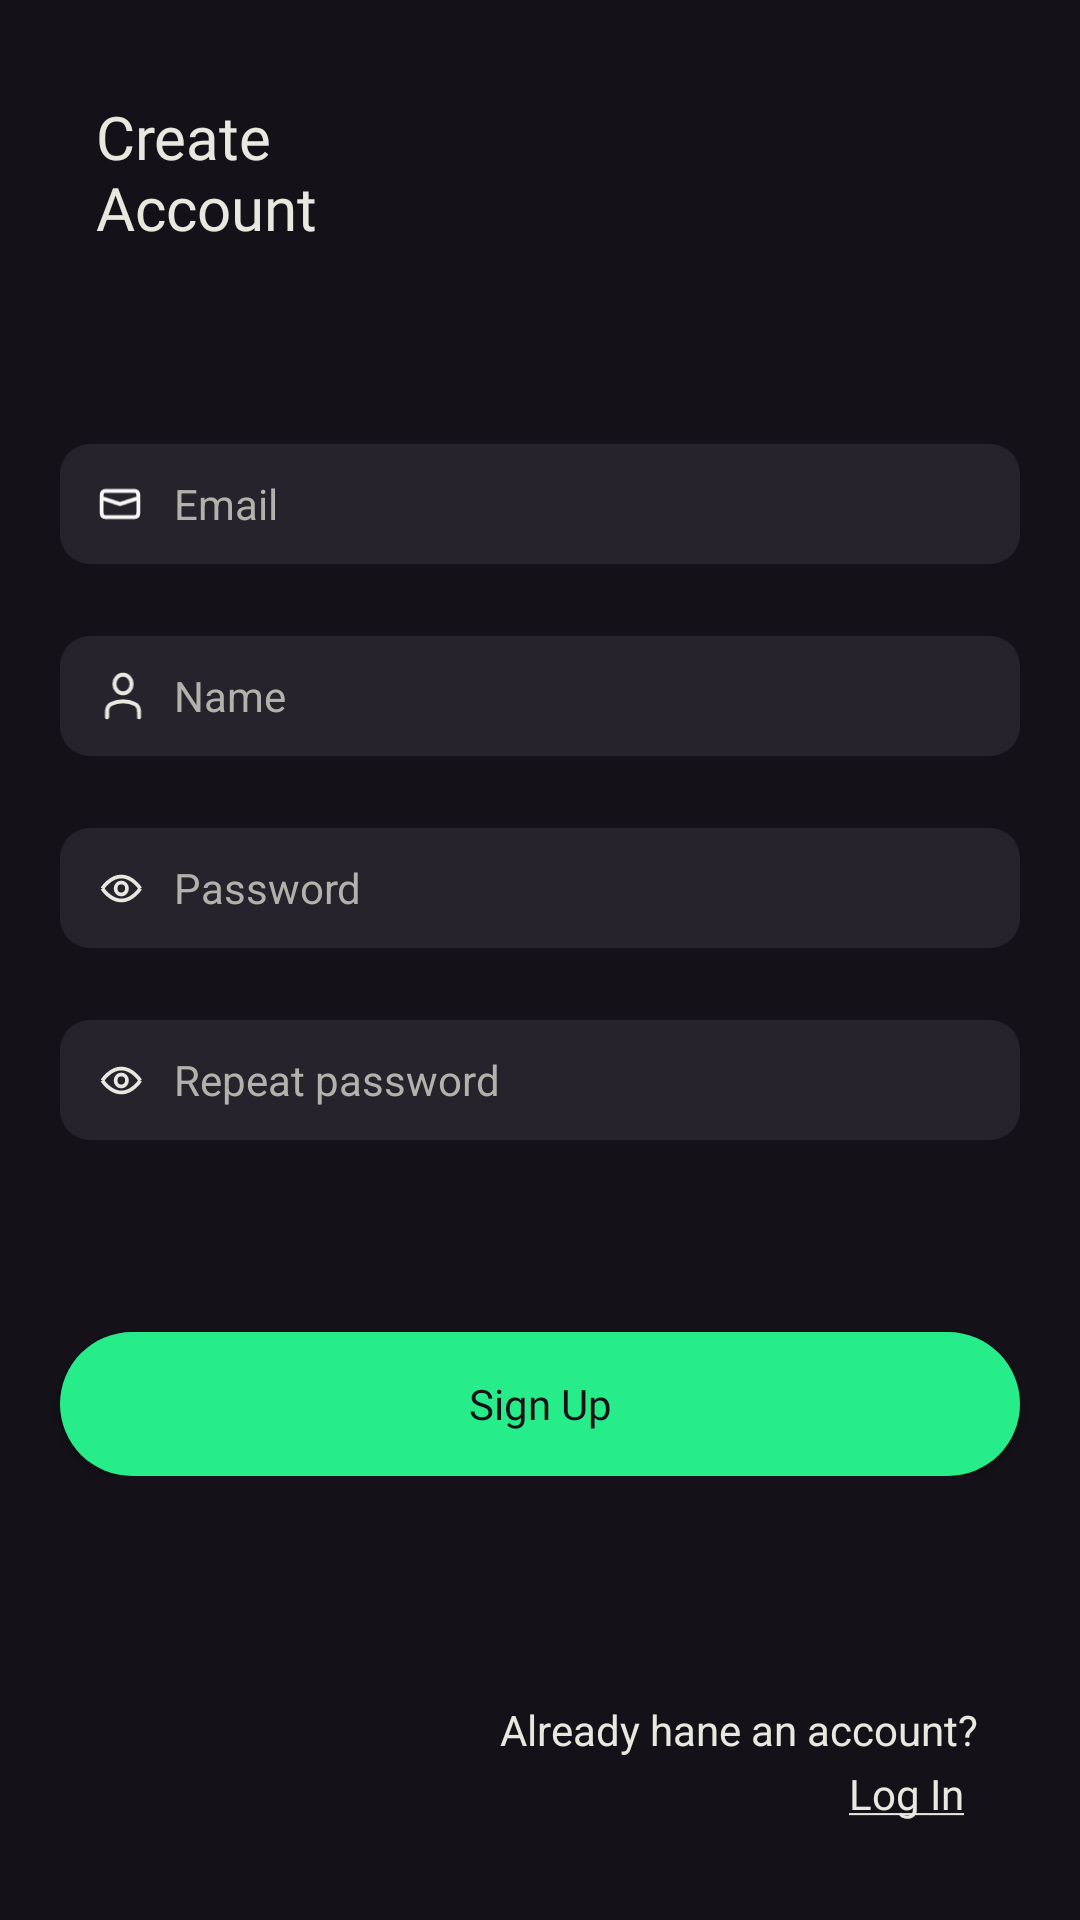

Where icons sit on this 1080×1920 app screen, as Rect(x1, y1, x2, y2):
eye: Rect(101, 874, 142, 903), Rect(101, 1066, 142, 1095)
letter: Rect(99, 488, 141, 520)
user: Rect(104, 672, 142, 720)
